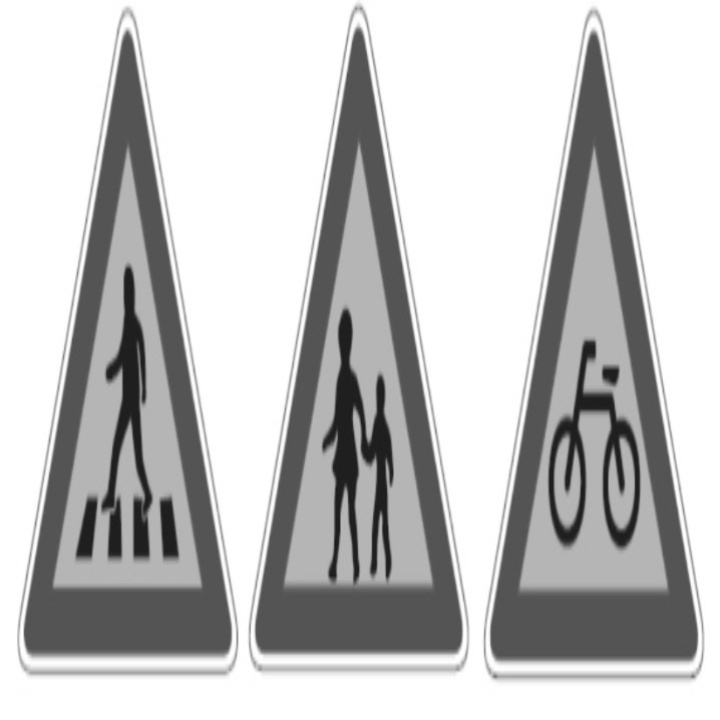bicycle: (487, 333, 716, 562)
child: (213, 303, 493, 583)
cross: (1, 263, 307, 570)
